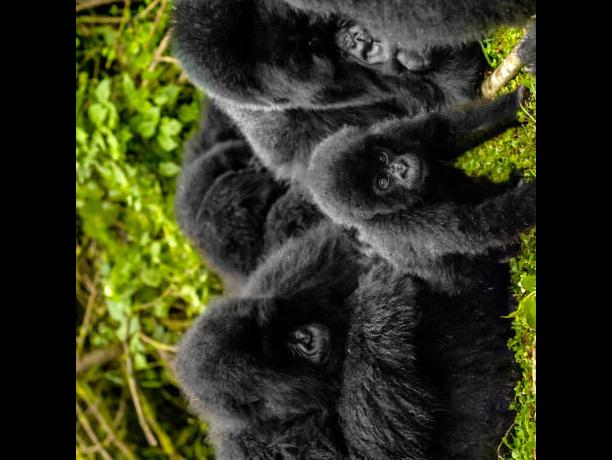goriile_montagne: (179, 254, 503, 460), (163, 0, 496, 138), (322, 88, 524, 264)
